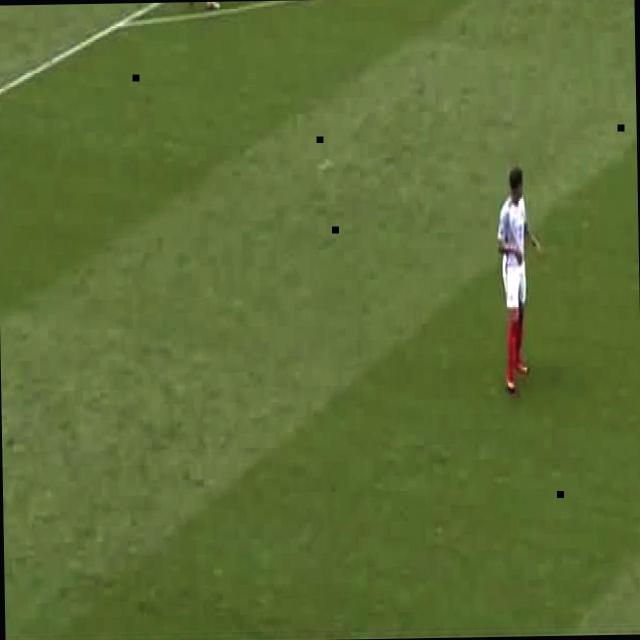player-white: (494, 166, 542, 395)
